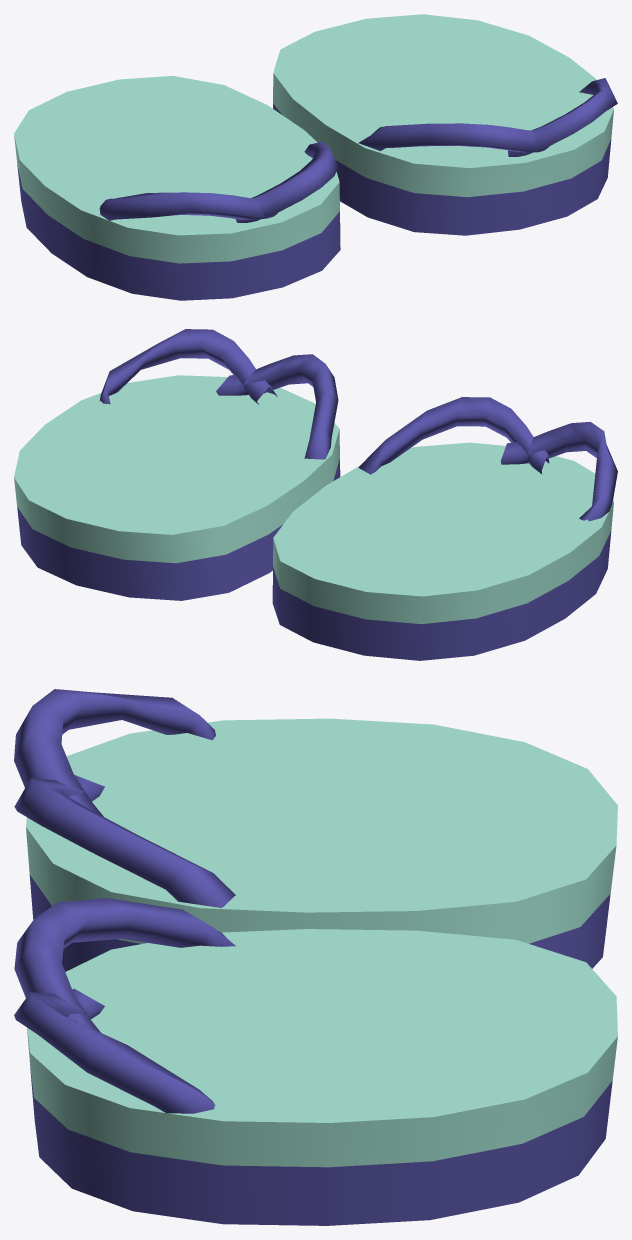
Rendered from Boots05_flipflops.fbx.
The picture shows the model from 3 angles, top to bottom: view 1: azimuth 30°, elevation 25°; view 2: azimuth 150°, elevation 25°; view 3: azimuth 270°, elevation 25°; orthographic projection. The views are drawn at different scales.
Visible parts, largest first — view 1: FlipFlops; view 2: FlipFlops; view 3: FlipFlops.
Part boxes in pixels (box(x1,y1,x2,y2)): FlipFlops: box(14, 14, 617, 300); FlipFlops: box(14, 329, 617, 660); FlipFlops: box(14, 689, 617, 1225).
Bounding box in the file's own units: 90.86 × 18.7 × 57.34.
